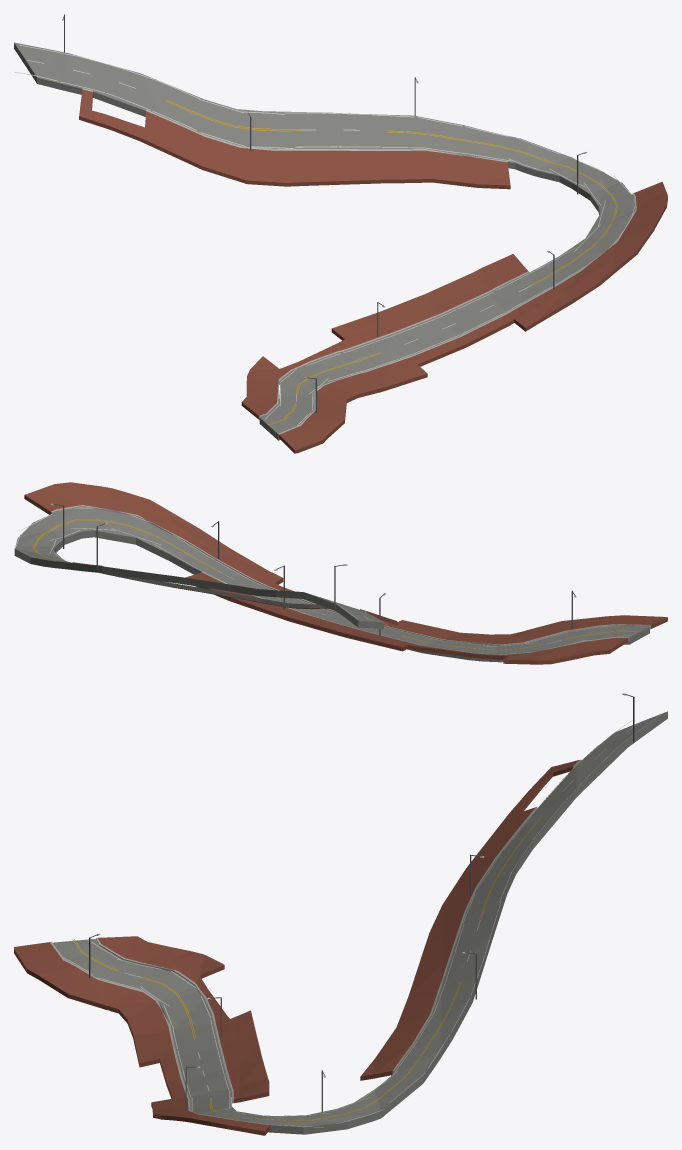
3 renders of one model, top to bottom at view 1: azimuth 30°, elevation 25°; view 2: azimuth 150°, elevation 25°; view 3: azimuth 270°, elevation 25°, orthographic. The views are drawn at different scales.
Size of the model in its own units: 98.17 by 46.94 by 97.19.
